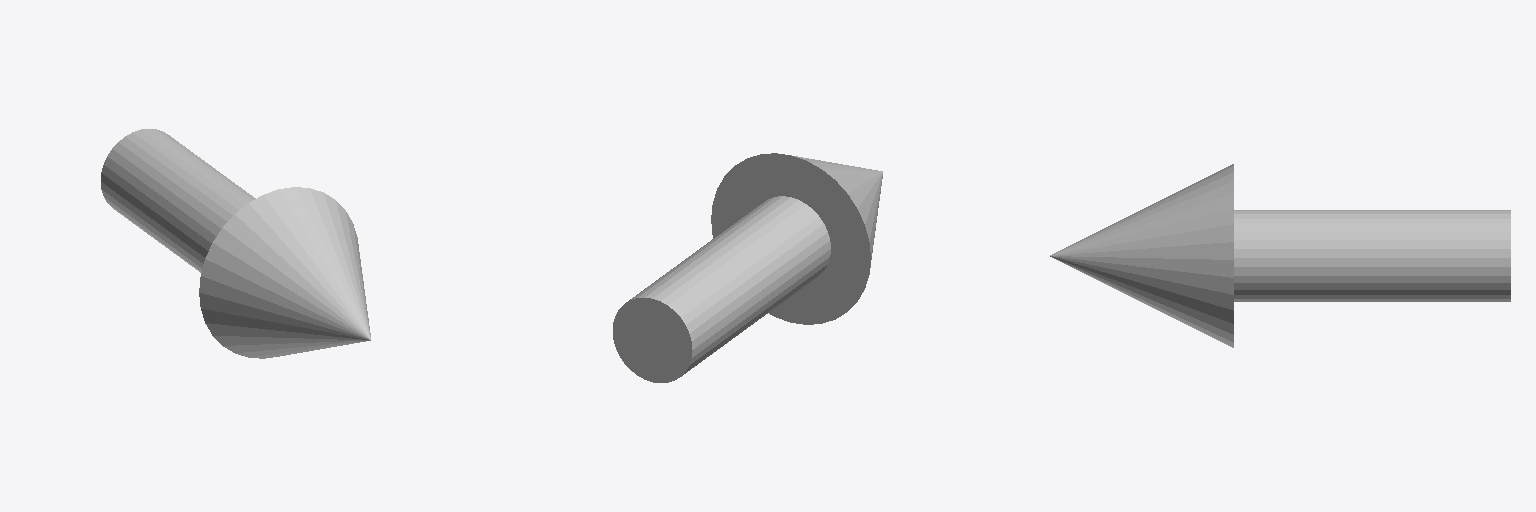
File: Direction.obj
The picture shows the model from 3 angles: view 1: azimuth 30°, elevation 25°; view 2: azimuth 150°, elevation 25°; view 3: azimuth 270°, elevation 25°; orthographic projection.
Parts seen in each view (by area): view 1: Cone, Cylinder; view 2: Cylinder, Cone; view 3: Cylinder, Cone.
Boxes of the visible parts, <box> form: Cone: <box>199,187,370,358</box>; Cylinder: <box>101,129,255,272</box>; Cylinder: <box>613,196,830,382</box>; Cone: <box>711,153,882,324</box>; Cylinder: <box>1234,210,1510,301</box>; Cone: <box>1050,164,1233,347</box>.
Size of the model in its own units: 2 by 2 by 5.